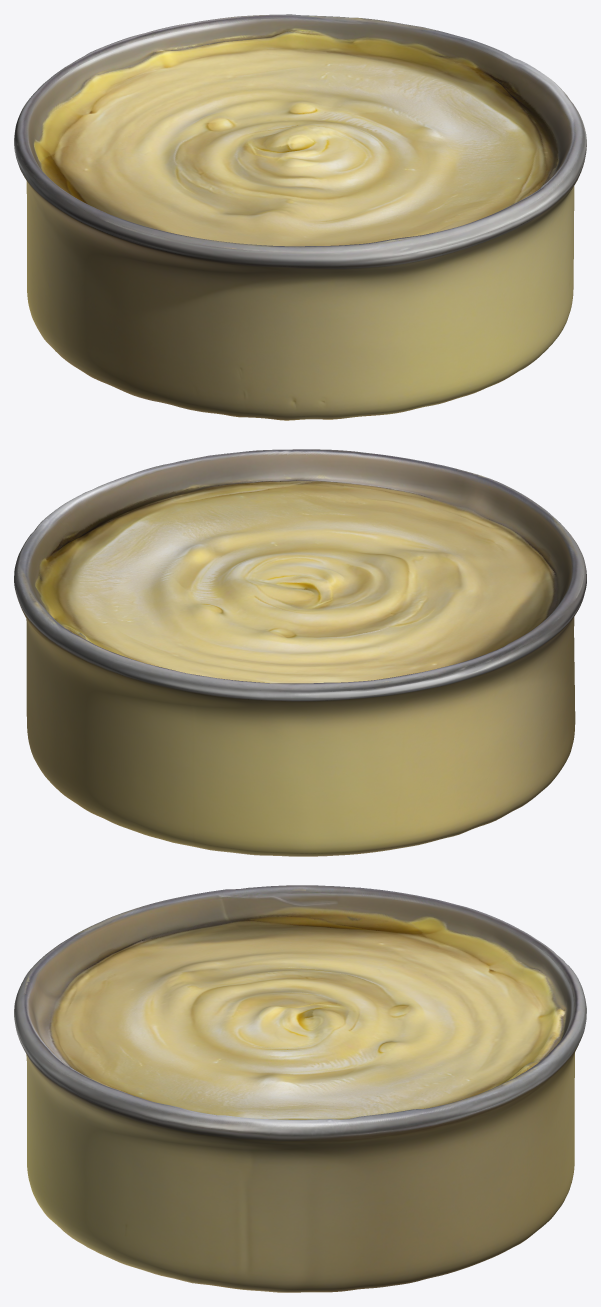
File: cake4.fbx
3 renders of one model, top to bottom at view 1: azimuth 30°, elevation 25°; view 2: azimuth 150°, elevation 25°; view 3: azimuth 270°, elevation 25°, orthographic.
Parts seen in each view (by area): view 1: Mesh_0; view 2: Mesh_0; view 3: Mesh_0.
Part boxes in pixels (x1,y1,x2,y2): Mesh_0: [14, 14, 586, 420]; Mesh_0: [14, 449, 586, 856]; Mesh_0: [14, 885, 586, 1292].
Bounding box in the file's own units: 200 × 72.09 × 200.
1 material, 1 textured.
